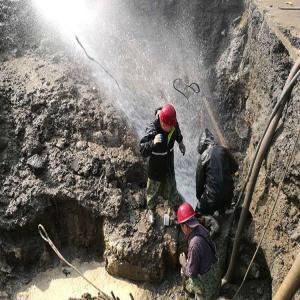red: (179, 203, 198, 236), (159, 104, 179, 134)
